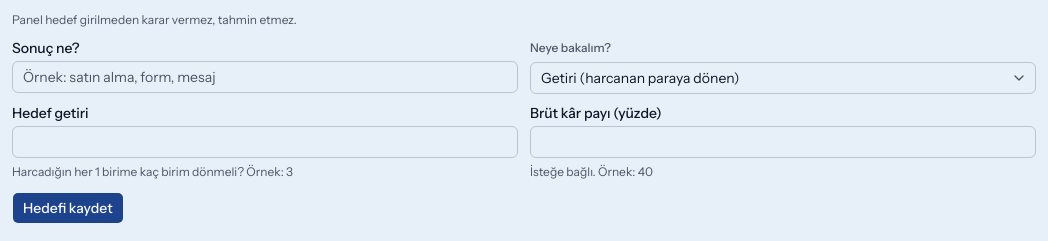
Test case: GoalForm › sunucu hatasını olduğu gibi gösterir
Click the field labelled "Sonuç ne?" at (265, 77), box x1=12 y1=61 x2=518 y2=93
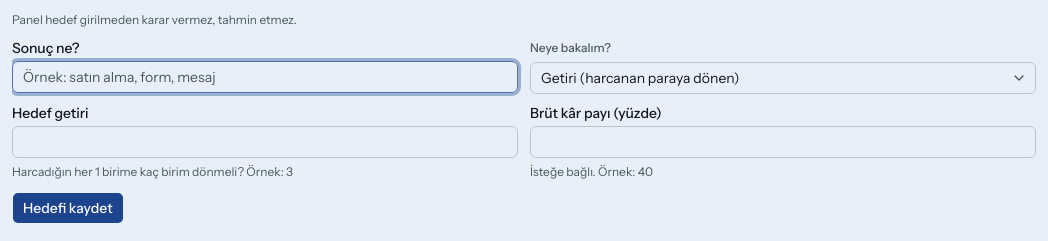
Type keys "form"
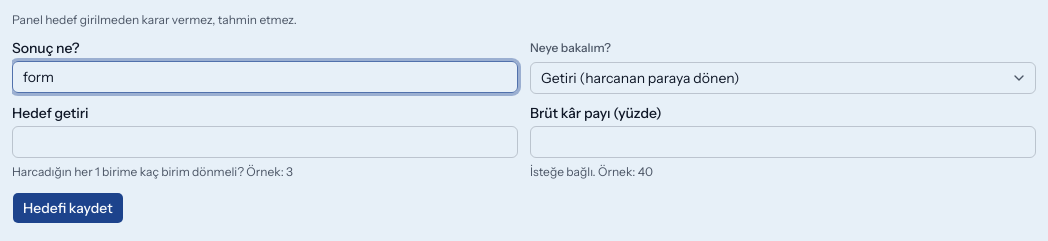
Click the field labelled "Hedef getiri" at (265, 142), box x1=12 y1=126 x2=518 y2=158
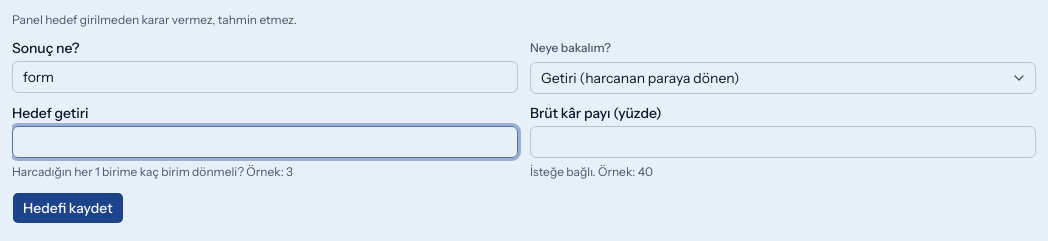
Type keys "1"
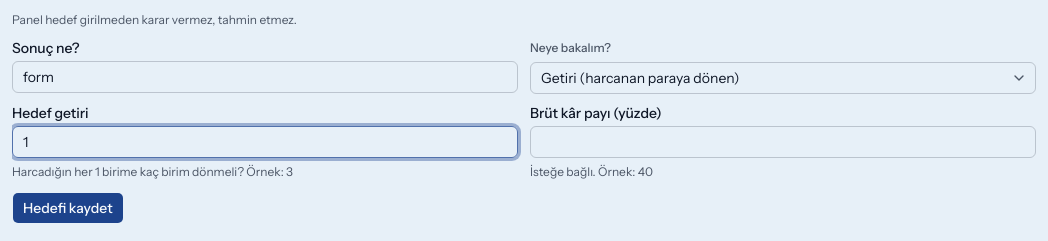
Click the button "Hedefi kaydet" at (68, 208), box x1=12 y1=192 x2=124 y2=224
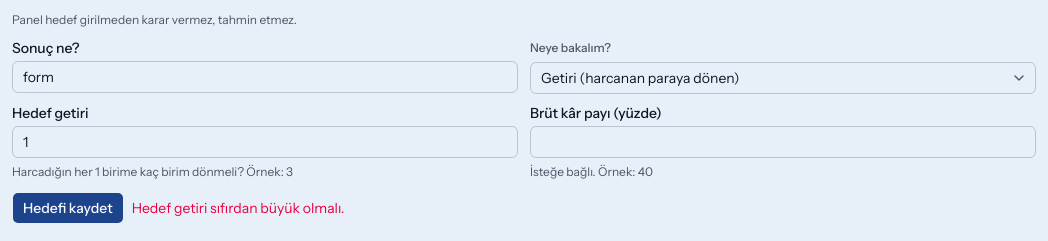
Expected: the message reads "Hedef getiri sıfırdan büyük olmalı.", x1=132 y1=199 x2=344 y2=217
